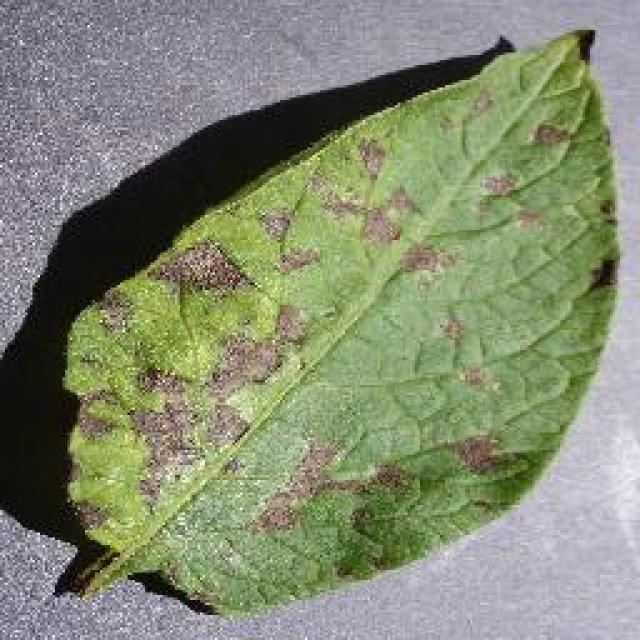early_blight: (47, 25, 625, 620)
